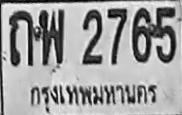2: (82, 9, 102, 64)
5: (154, 6, 176, 63)
6: (132, 8, 154, 62)
7: (108, 8, 128, 65)
A22: (8, 10, 35, 66)
A30: (38, 8, 64, 66)
BKK: (25, 78, 159, 114)
